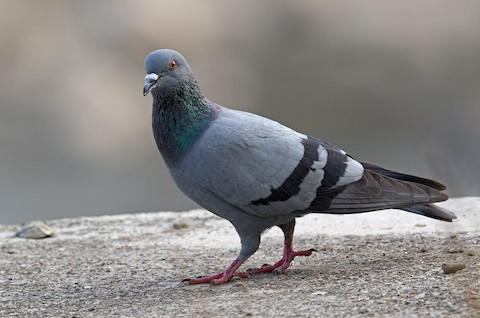pigeon: (140, 45, 461, 288)
